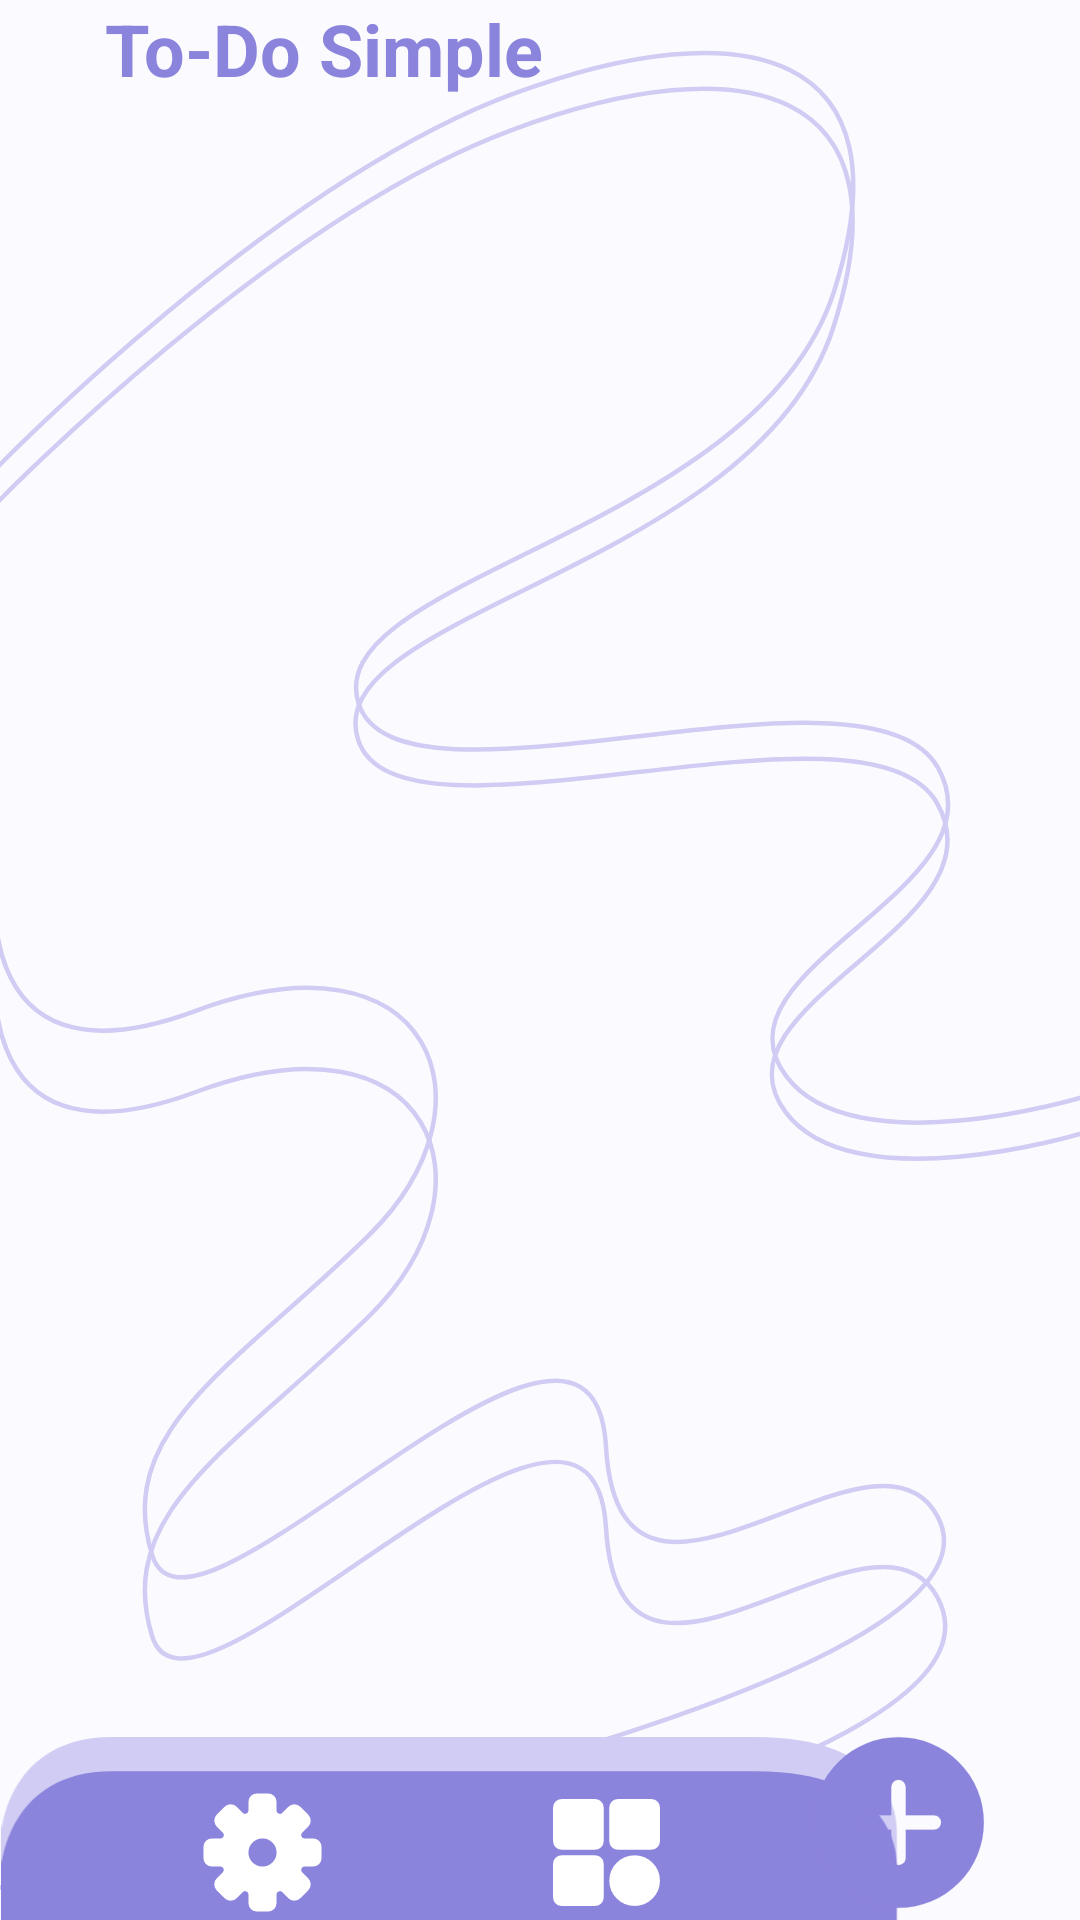

Icon bounding boxes for this 1080w x 1920h phone screenshot, format rect(x1, y1, x2, y2):
add circle: rect(801, 1725, 984, 1920)
